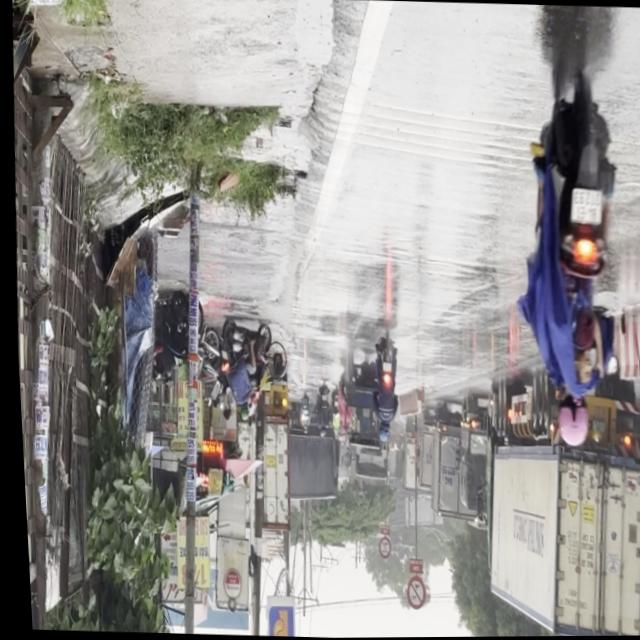helmet: (550, 394, 588, 449)
licenseplate: (499, 46, 636, 454)
nohelmet: (568, 189, 600, 225)
